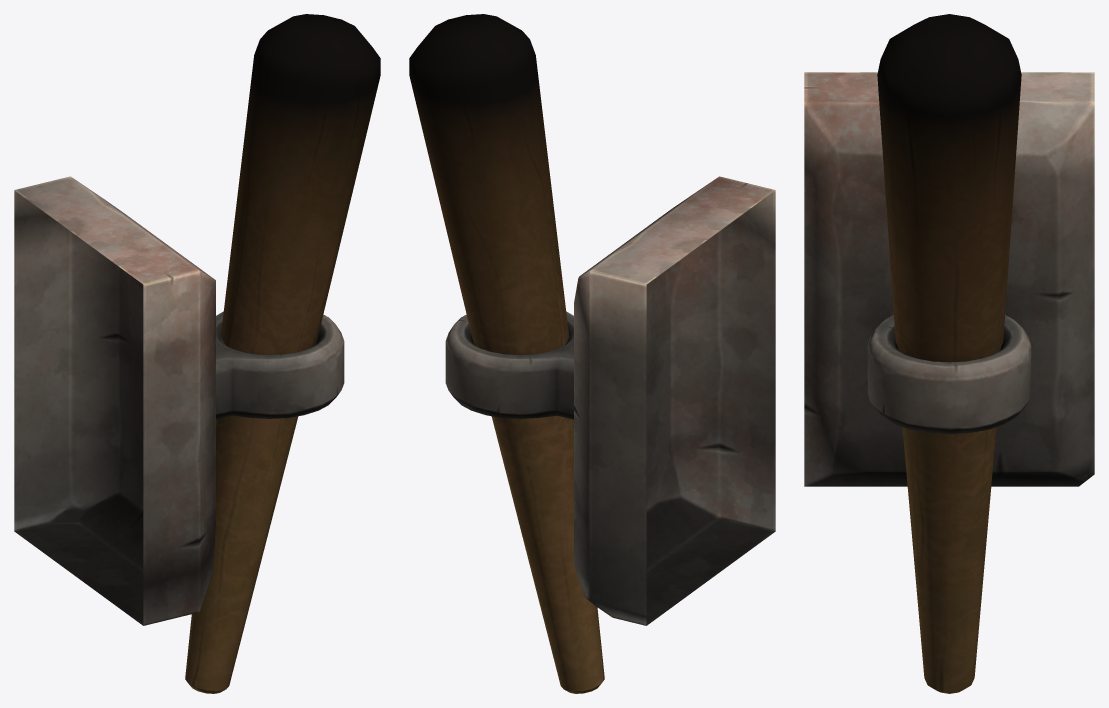
File: SM_Wall_Torch.fbx
3 renders of one model, left to right at view 1: azimuth 30°, elevation 25°; view 2: azimuth 150°, elevation 25°; view 3: azimuth 270°, elevation 25°, orthographic. The views are drawn at different scales.
Visible parts, largest first — view 1: SM_Wall_Torch_LOD0; view 2: SM_Wall_Torch_LOD0; view 3: SM_Wall_Torch_LOD0.
Part boxes in pixels (x1,y1,x2,y2): SM_Wall_Torch_LOD0: [14, 14, 380, 693]; SM_Wall_Torch_LOD0: [409, 14, 775, 693]; SM_Wall_Torch_LOD0: [804, 14, 1094, 693].
Bounding box in the file's own units: 22.3 × 17.01 × 46.54.
Materials: 1 (1 with a texture image).
